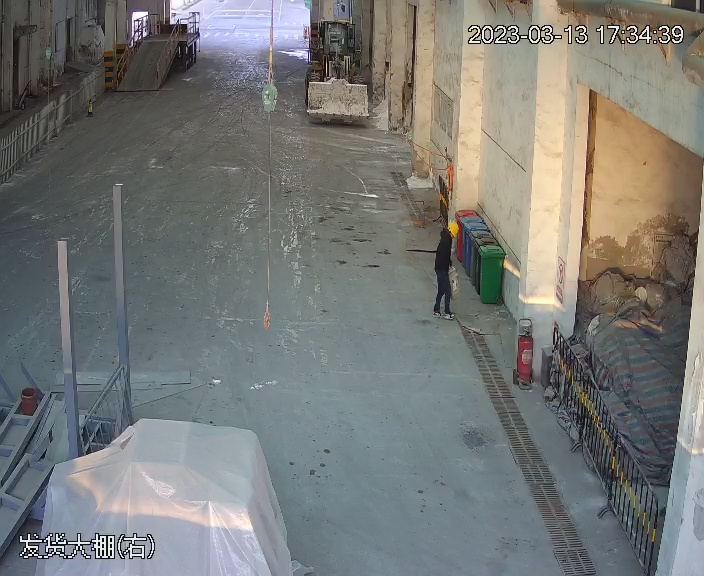head: (435, 219, 458, 255)
helmet: (447, 220, 462, 238)
people: (429, 213, 461, 321)
